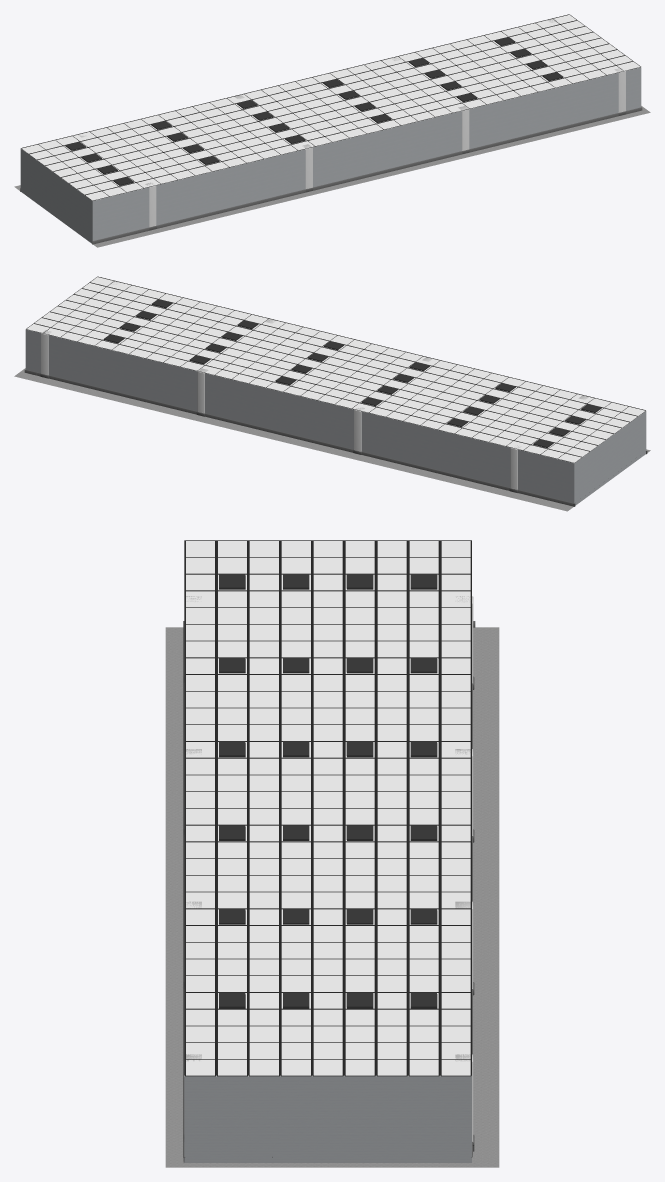
The model's file is backrooms_long_hall.glb.
3 views of the same model, one above another, from view 1: azimuth 30°, elevation 25°; view 2: azimuth 150°, elevation 25°; view 3: azimuth 270°, elevation 25° (orthographic). The views are drawn at different scales.
Parts seen in each view (by area): view 1: ceiling Tiles.001_3, Room.002_2, ceiling grid.001_4, ceiling Lights.001_5, Cube.001_1, skirting.004_7, Column.001_6; view 2: ceiling Tiles.001_3, Room.002_2, ceiling grid.001_4, Cube.001_1, ceiling Lights.001_5, skirting.004_7, Column.001_6; view 3: ceiling Tiles.001_3, ceiling grid.001_4, Cube.001_1, Room.002_2, ceiling Lights.001_5, Column.001_6, skirting.004_7.
Part boxes in pixels (bbox=[...]): ceiling Tiles.001_3: bbox=[21, 15, 640, 200]; Room.002_2: bbox=[20, 67, 641, 243]; ceiling grid.001_4: bbox=[21, 14, 640, 200]; ceiling Lights.001_5: bbox=[65, 37, 563, 185]; Cube.001_1: bbox=[14, 106, 650, 247]; skirting.004_7: bbox=[20, 107, 642, 244]; Column.001_6: bbox=[78, 18, 626, 230]; ceiling Tiles.001_3: bbox=[26, 277, 645, 462]; Room.002_2: bbox=[25, 329, 646, 505]; ceiling grid.001_4: bbox=[26, 276, 645, 462]; Cube.001_1: bbox=[14, 368, 650, 511]; ceiling Lights.001_5: bbox=[104, 299, 601, 447]; skirting.004_7: bbox=[24, 369, 647, 506]; Column.001_6: bbox=[40, 281, 588, 492]; ceiling Tiles.001_3: bbox=[184, 541, 470, 1076]; ceiling grid.001_4: bbox=[184, 540, 471, 1076]; Cube.001_1: bbox=[165, 627, 499, 1167]; Room.002_2: bbox=[184, 1076, 471, 1162]; ceiling Lights.001_5: bbox=[219, 574, 437, 1008]; Column.001_6: bbox=[183, 596, 474, 1144]; skirting.004_7: bbox=[183, 621, 472, 1157].
Bounding box in the file's own units: 38.03 × 2.91 × 9.91.
10 materials, 3 textured.
